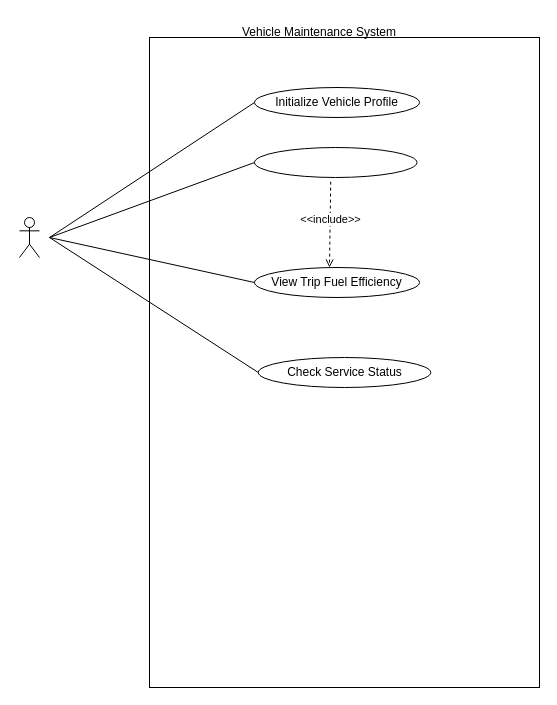
The diagram is 557 pixels wide and 705 high, and some of its shapes have lost their labels. Here are the shapes that lost their labels. From the top down, the centre of each, then its label:
At (x=335, y=162): "Log New Trip".
At (x=29, y=237): "User".
